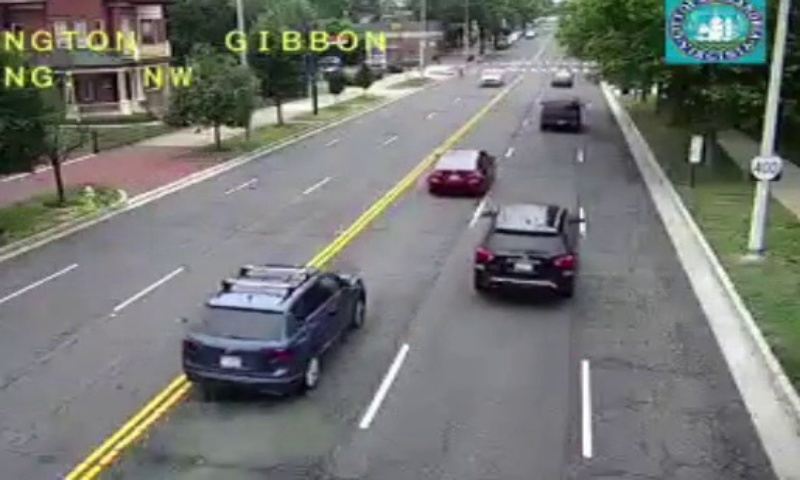car: (182, 264, 365, 390), (474, 204, 575, 294), (428, 149, 493, 190), (540, 97, 582, 131)
